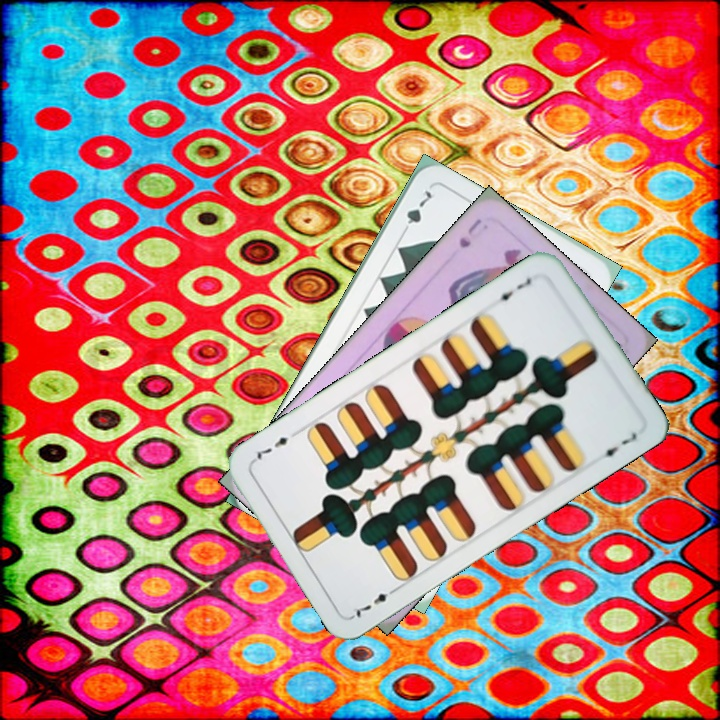E7: (348, 582, 401, 621), (490, 273, 535, 305)
G7: (398, 186, 435, 238)
SU: (454, 214, 485, 251)
